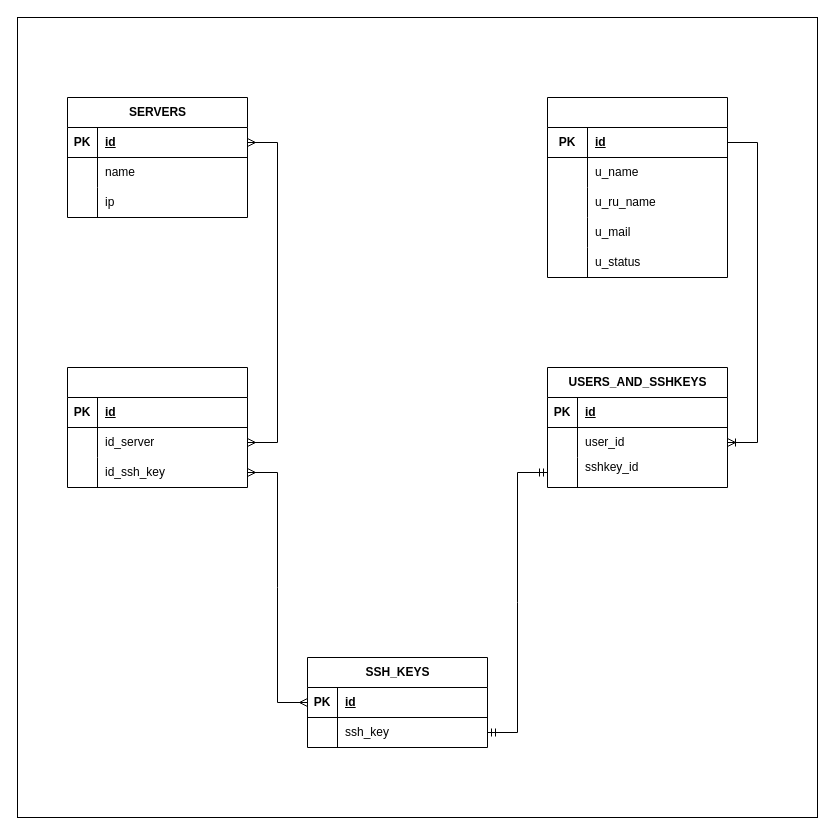
The diagram is 835 pixels wide and 835 high, and some of its shapes have lost their labels. The shapes that lost their labels are listed below. From the top down, each one's box as (x1, y1, x2, y2) in pixels, then its label:
(546, 96, 728, 278): AD_USERS_SSHKEYS
(66, 366, 248, 488): SERV_AND_SSHKEYS
